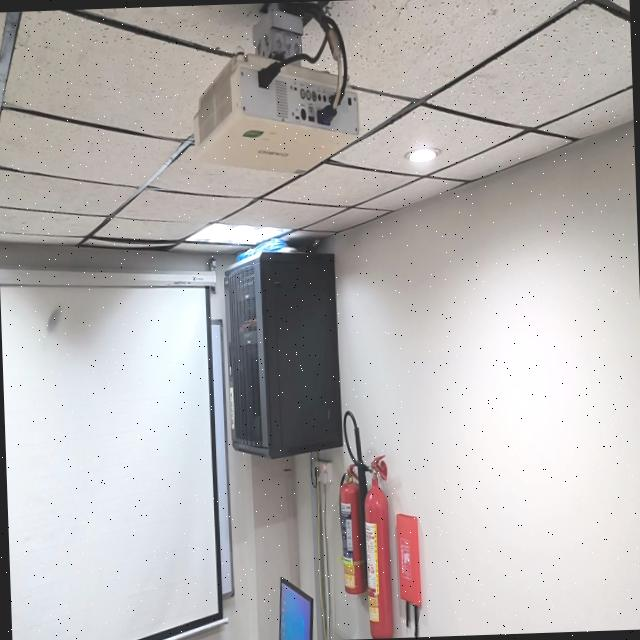Fire Extinguisher: (363, 471, 392, 638), (338, 460, 364, 593)
Light: (185, 221, 284, 244), (404, 142, 439, 161)
Monitor: (278, 576, 312, 640)
Projector: (193, 8, 358, 172)
